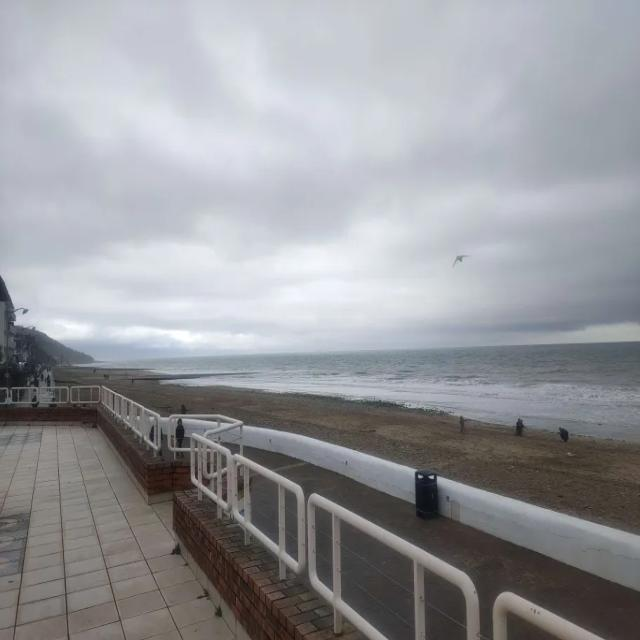person: (555, 425, 572, 444), (514, 416, 526, 438), (457, 412, 468, 436), (102, 373, 111, 381), (130, 377, 137, 387), (91, 368, 98, 375)
